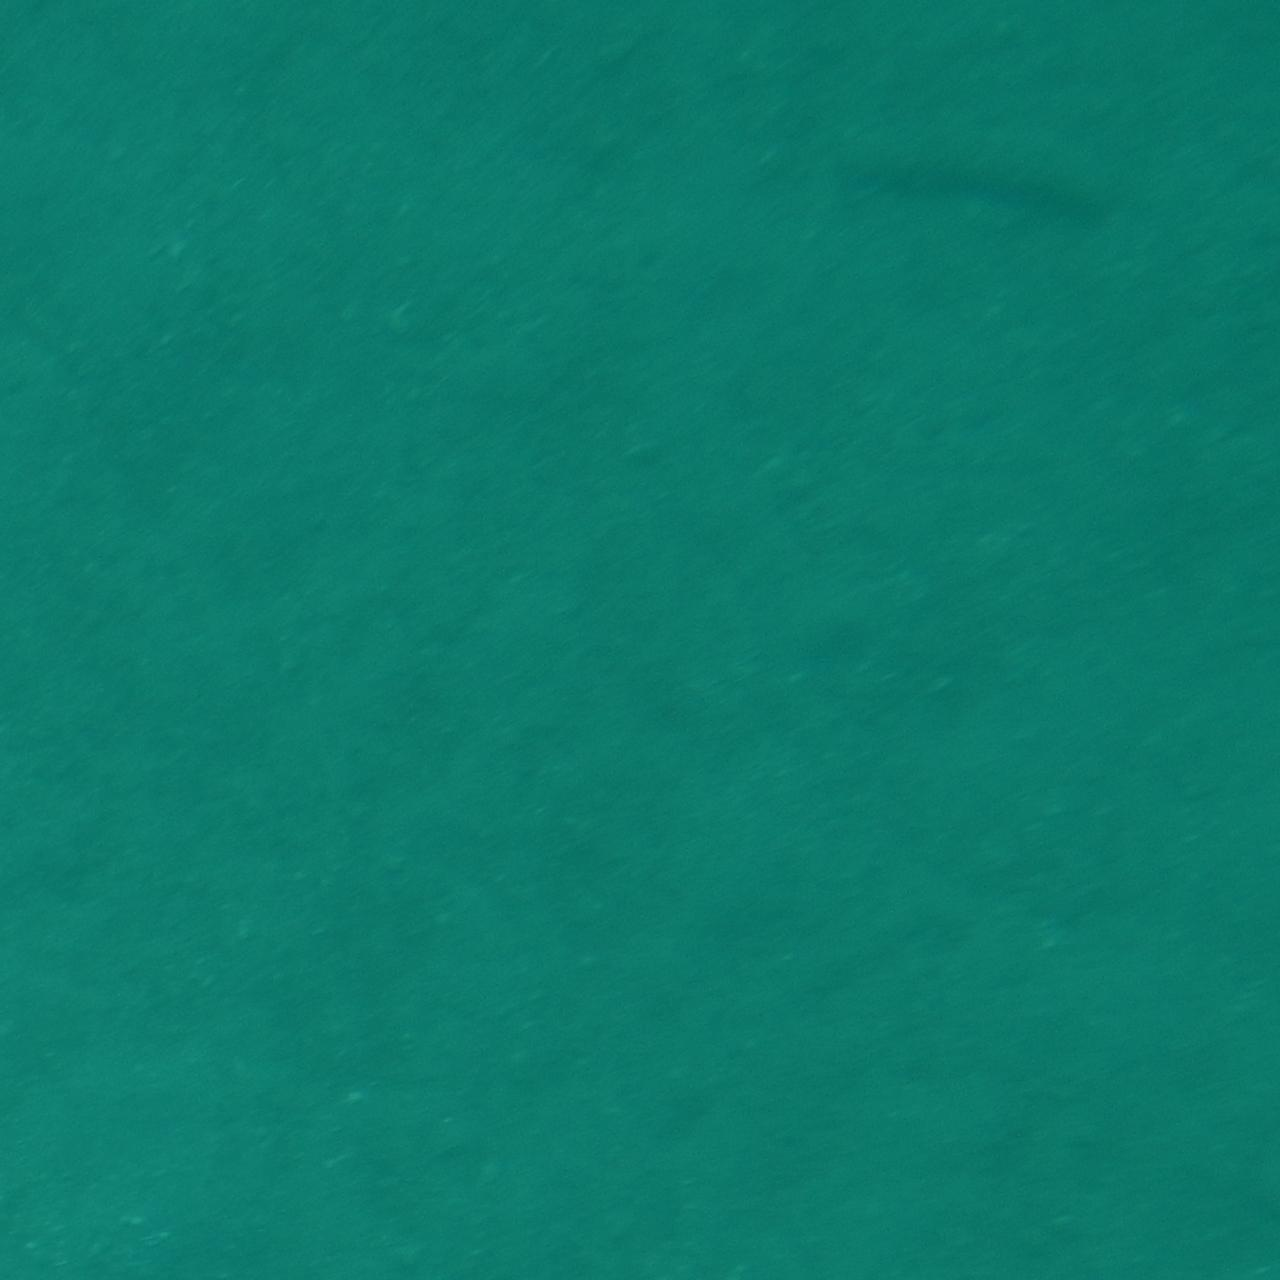Holothuria tubulosa: (805, 120, 1121, 245)
